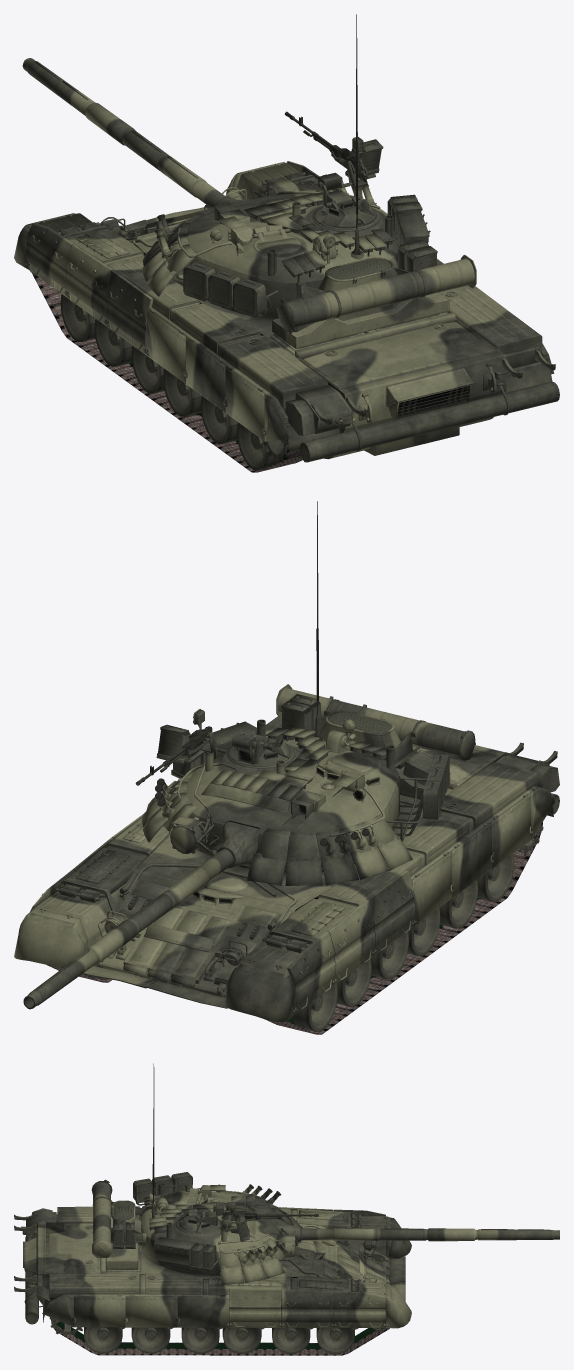
The model's file is drive_t80u.glb.
3 views of the same model, one above another, from view 1: azimuth 30°, elevation 25°; view 2: azimuth 150°, elevation 25°; view 3: azimuth 270°, elevation 25° (orthographic). The views are drawn at different scales.
Visible parts, largest first — view 1: Object_4, Object_48, Object_44, Object_14, Object_28, Object_24, Object_20, Object_26, Object_18, Object_32, Object_22, Object_34 (+1 smaller); view 2: Object_4, Object_48, Object_44, Object_14, Object_34, Object_18, Object_26, Object_22, Object_28, Object_20, Object_32, Object_24 (+2 smaller); view 3: Object_4, Object_48, Object_44, Object_14, Object_22, Object_26, Object_24, Object_28, Object_18, Object_20, Object_8, Object_32 (+1 smaller).
Boxes of the visible parts, bbox=[...] form: Object_4: bbox=[14, 161, 559, 462]; Object_48: bbox=[142, 172, 476, 348]; Object_44: bbox=[22, 58, 250, 207]; Object_14: bbox=[32, 273, 302, 472]; Object_28: bbox=[237, 422, 287, 470]; Object_24: bbox=[163, 368, 201, 416]; Object_20: bbox=[94, 319, 132, 366]; Object_26: bbox=[200, 396, 237, 443]; Object_18: bbox=[60, 294, 95, 341]; Object_32: bbox=[285, 111, 366, 178]; Object_22: bbox=[131, 346, 164, 393]; Object_34: bbox=[340, 139, 383, 188]; Object_4: bbox=[14, 696, 559, 1022]; Object_48: bbox=[141, 684, 475, 885]; Object_44: bbox=[23, 821, 260, 1009]; Object_14: bbox=[46, 822, 542, 1034]; Object_34: bbox=[156, 724, 227, 763]; Object_18: bbox=[86, 974, 337, 1031]; Object_26: bbox=[439, 880, 478, 928]; Object_22: bbox=[370, 932, 408, 979]; Object_28: bbox=[477, 853, 514, 901]; Object_20: bbox=[336, 959, 371, 1006]; Object_32: bbox=[135, 709, 215, 785]; Object_24: bbox=[407, 908, 440, 955]; Object_4: bbox=[14, 1206, 411, 1329]; Object_48: bbox=[91, 1172, 302, 1284]; Object_44: bbox=[276, 1218, 559, 1246]; Object_14: bbox=[51, 1301, 389, 1355]; Object_22: bbox=[222, 1327, 261, 1353]; Object_26: bbox=[131, 1327, 170, 1353]; Object_24: bbox=[181, 1327, 219, 1353]; Object_28: bbox=[84, 1327, 122, 1353]; Object_18: bbox=[316, 1309, 354, 1354]; Object_20: bbox=[272, 1311, 310, 1353]; Object_8: bbox=[56, 1321, 376, 1349]; Object_32: bbox=[219, 1202, 318, 1223].
Bounding box in the file's own units: 3.69 × 5.09 × 9.75.
9 materials, 8 textured.
